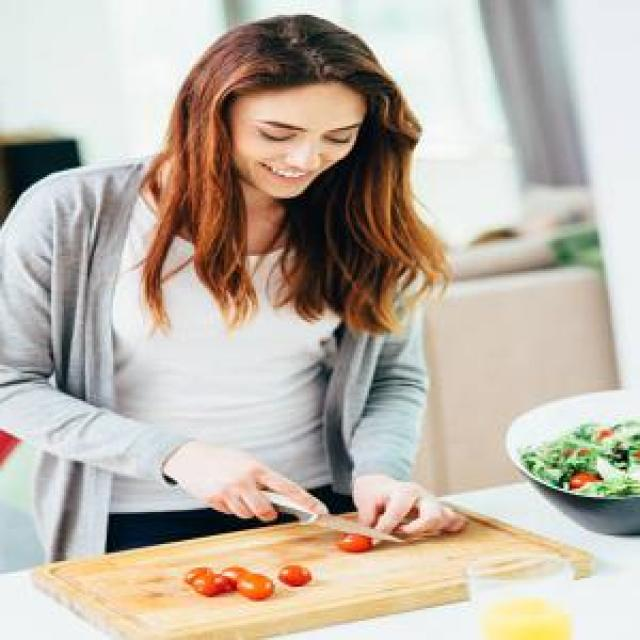knife: (228, 470, 411, 552)
